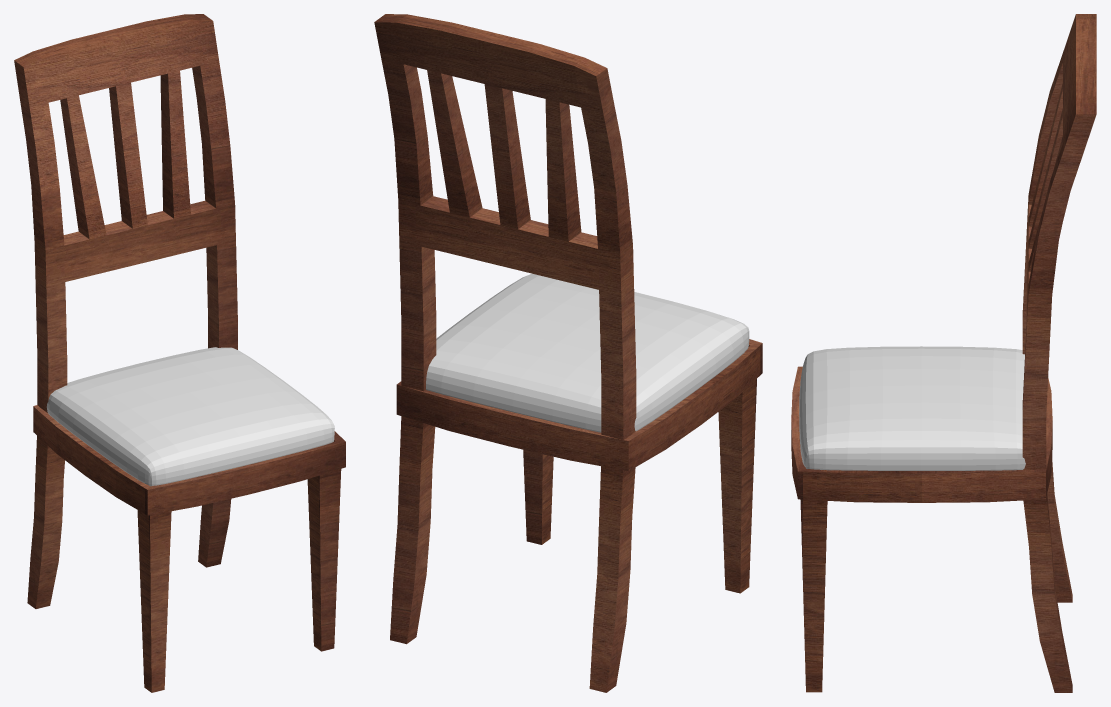
File: Chairs.fbx
3 views of the same model, side by side, from view 1: azimuth 30°, elevation 25°; view 2: azimuth 150°, elevation 25°; view 3: azimuth 270°, elevation 25° (orthographic). The views are drawn at different scales.
Parts seen in each view (by area): view 1: base, pillow; view 2: base, pillow; view 3: base, pillow.
Boxes of the visible parts, x1,y1,x2,y2 form: base: (14,14,345,692); pillow: (46,347,334,486); base: (374,14,762,692); pillow: (426,273,749,432); base: (791,14,1096,692); pillow: (799,346,1025,470).
Bounding box in the file's own units: 211 × 522 × 246.
